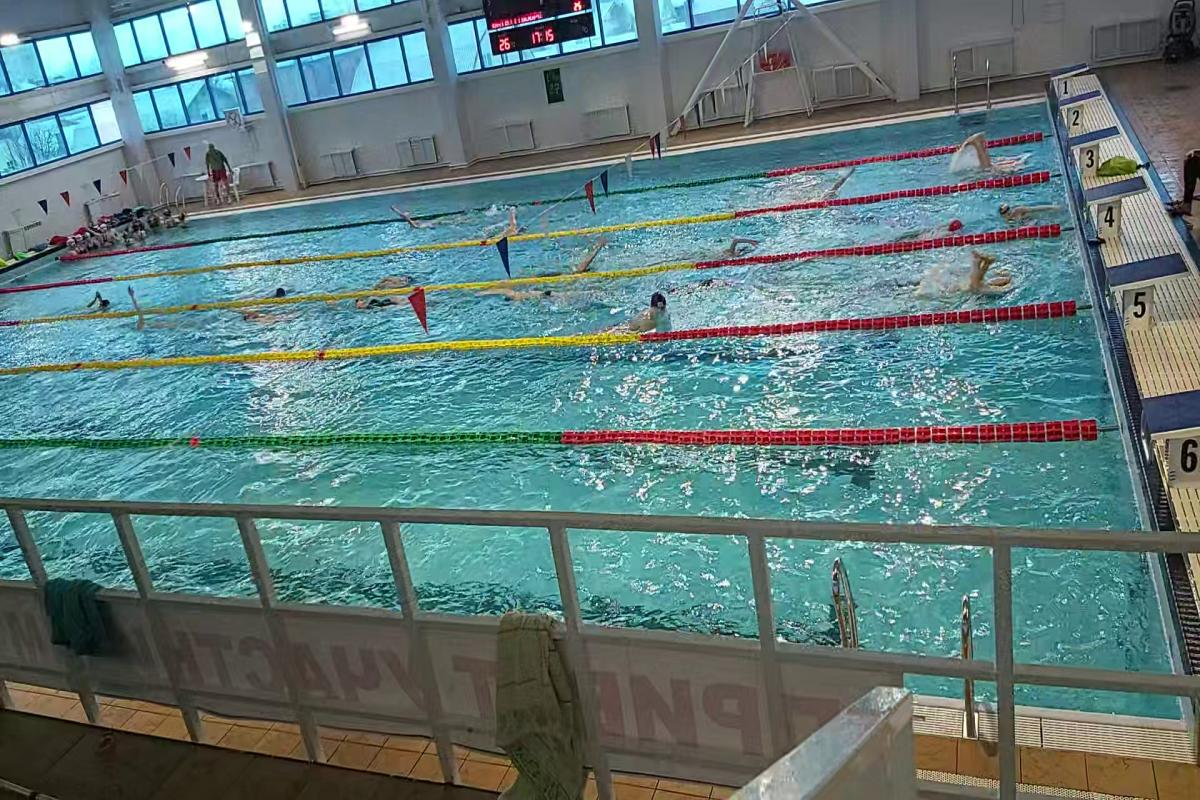swimmer: (614, 294, 675, 330), (481, 284, 588, 302), (227, 303, 309, 324), (706, 233, 774, 255), (126, 310, 194, 332), (993, 200, 1063, 221), (486, 209, 540, 236), (390, 212, 466, 230), (349, 293, 414, 313), (561, 246, 611, 270), (888, 224, 970, 237), (811, 178, 853, 203), (367, 275, 427, 289), (90, 294, 120, 310)
